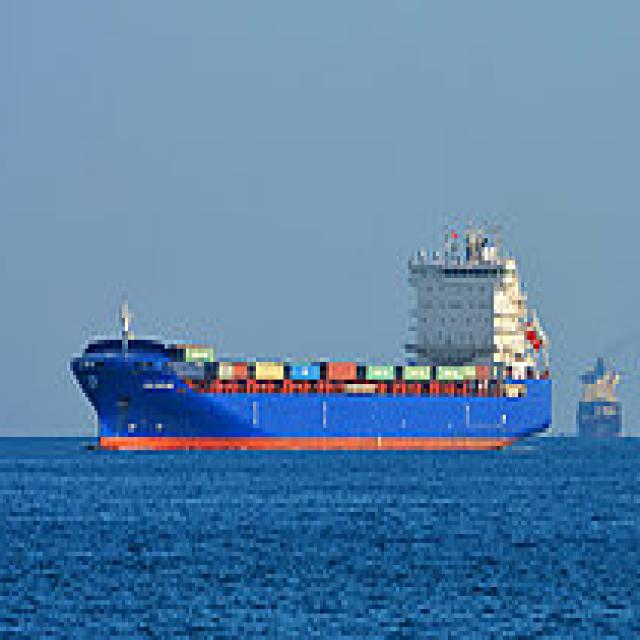Cargo: (70, 203, 558, 450), (576, 344, 628, 437)
